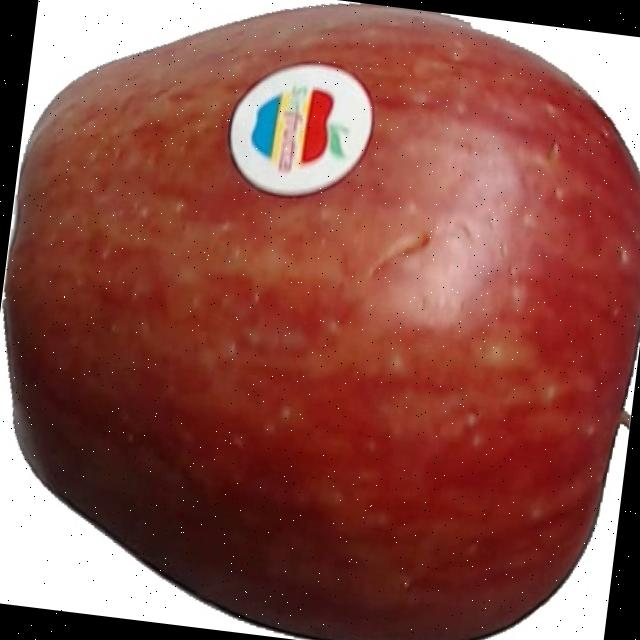apple: (0, 1, 640, 640)
